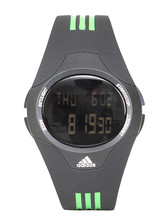watch: (21, 13, 157, 213)
